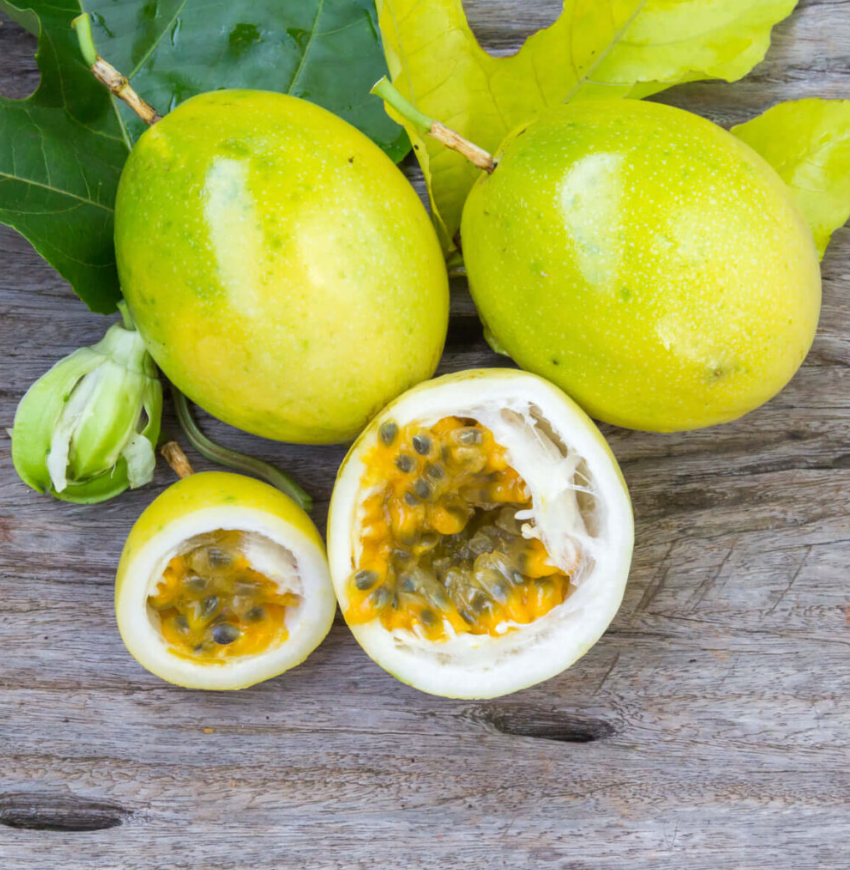maracuya: (452, 89, 832, 446), (106, 86, 461, 452)
